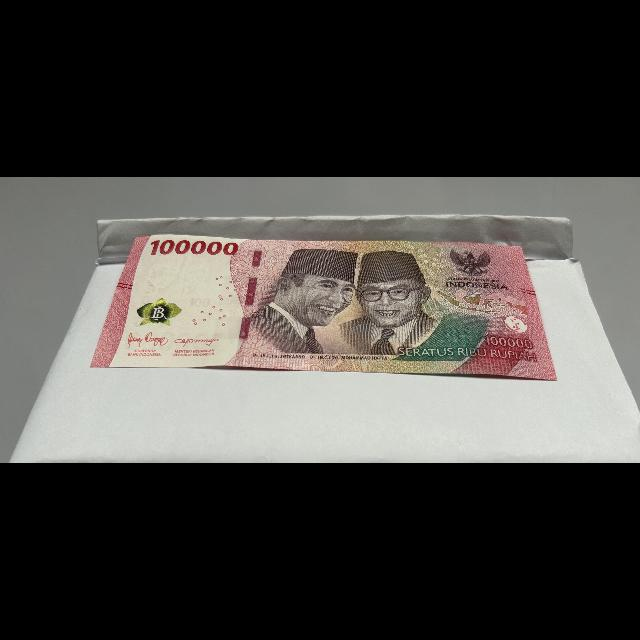Asli-100k: (86, 231, 564, 384)
Tinta-Asli-100k: (133, 296, 187, 328)
